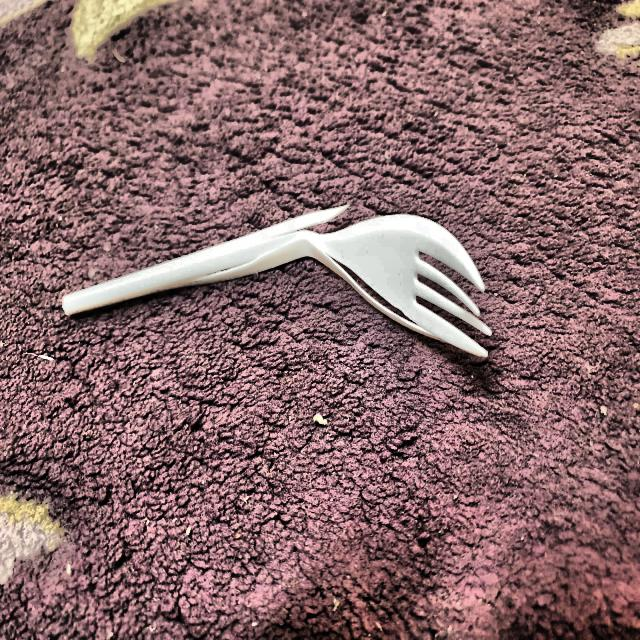plastic utensil: (54, 188, 500, 377)
